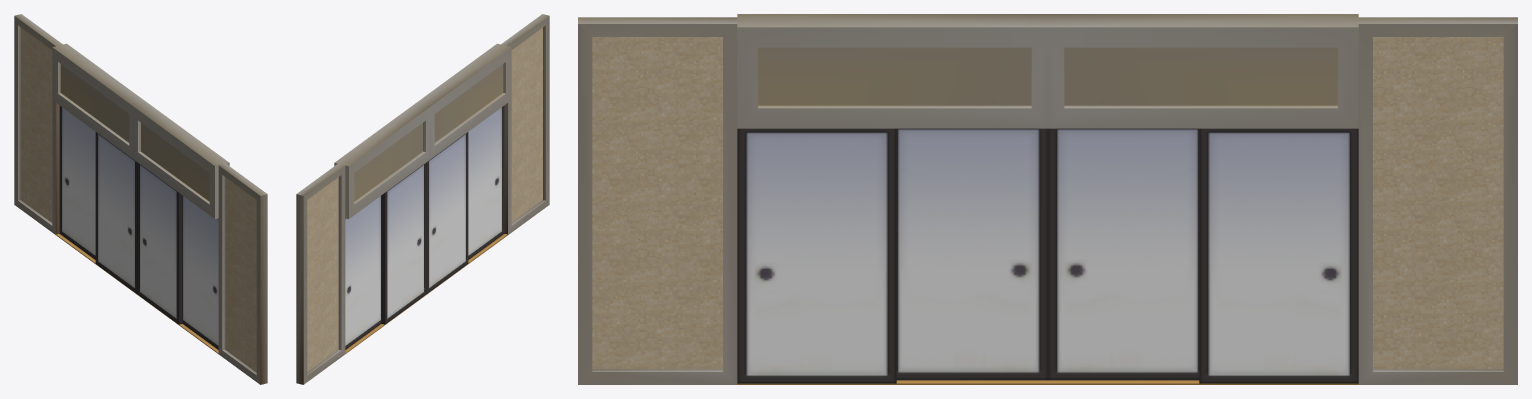
The model's file is husuma_6jyo_01.fbx.
3 views of the same model, side by side, from view 1: azimuth 30°, elevation 25°; view 2: azimuth 150°, elevation 25°; view 3: azimuth 270°, elevation 25° (orthographic). The views are drawn at different scales.
Visible parts, largest first — view 1: ranma01, door01, door03, door02, door04; view 2: ranma01, door03, door01, door04, door02; view 3: ranma01, door04, door02, door03, door01.
Boxes of the visible parts, bbox=[...] form: ranma01: bbox=[14, 14, 267, 384]; door01: bbox=[137, 162, 182, 324]; door03: bbox=[95, 132, 137, 293]; door02: bbox=[182, 196, 218, 349]; door04: bbox=[59, 106, 95, 259]; ranma01: bbox=[296, 14, 549, 384]; door03: bbox=[381, 162, 426, 324]; door01: bbox=[426, 132, 468, 293]; door04: bbox=[345, 196, 381, 349]; door02: bbox=[468, 106, 504, 259]; ranma01: bbox=[578, 14, 1517, 384]; door04: bbox=[1199, 128, 1358, 383]; door02: bbox=[737, 128, 896, 383]; door03: bbox=[1048, 128, 1199, 380]; door01: bbox=[896, 128, 1047, 380].
Bounding box in the file's own units: 40 × 500 × 1180.
